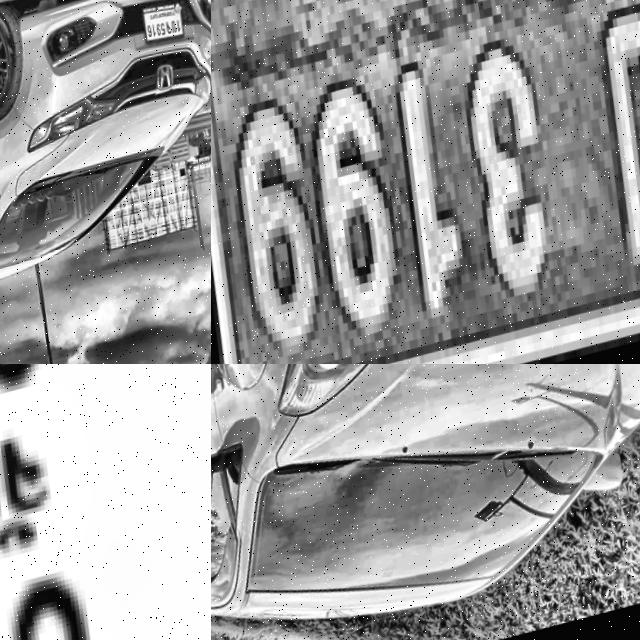license-plate: (211, 0, 640, 364), (0, 364, 211, 640), (134, 6, 189, 63)
